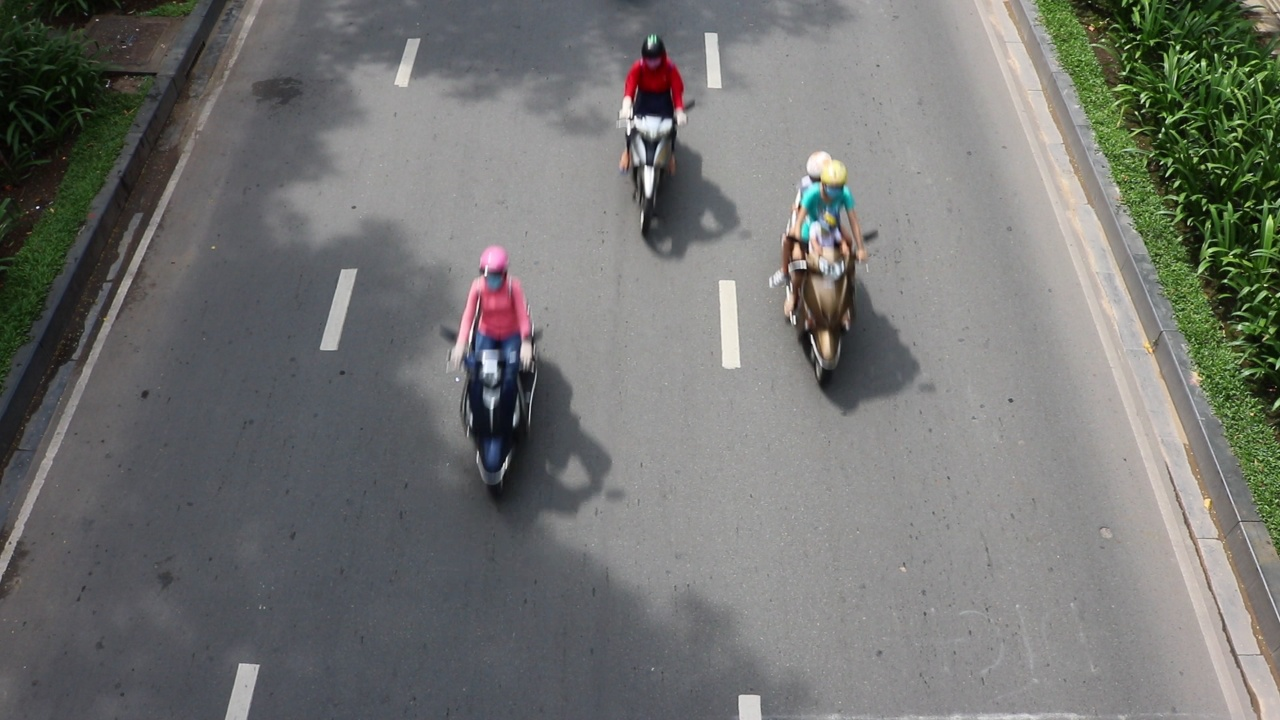motorcycle: (779, 248, 869, 392), (457, 335, 535, 490), (613, 106, 690, 233)
